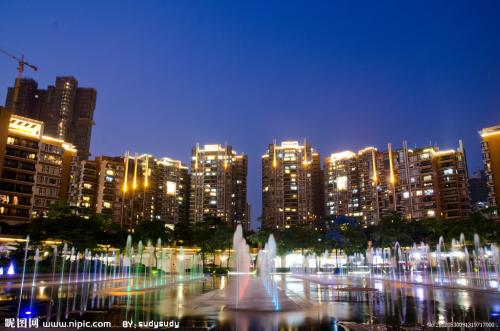buildings: (8, 119, 76, 231), (186, 140, 251, 256), (261, 133, 324, 247), (40, 74, 100, 163)
